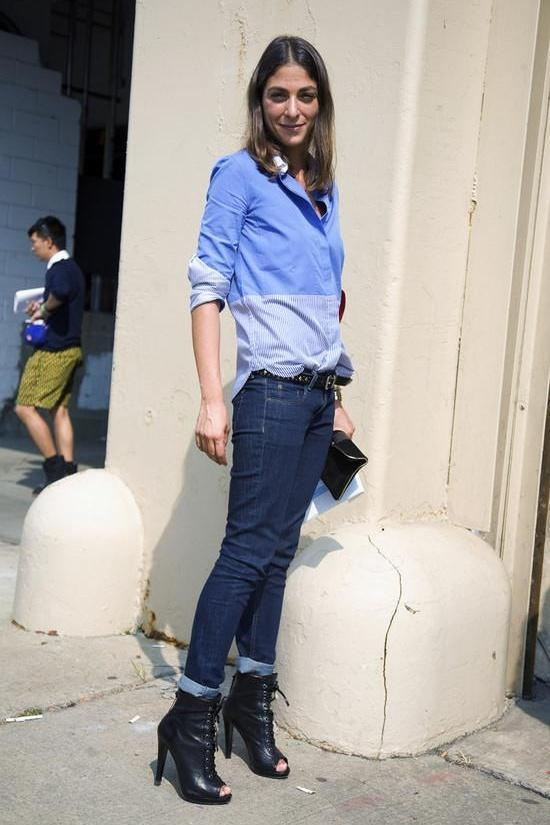pants: (180, 368, 336, 698)
shirt: (190, 143, 352, 400)
